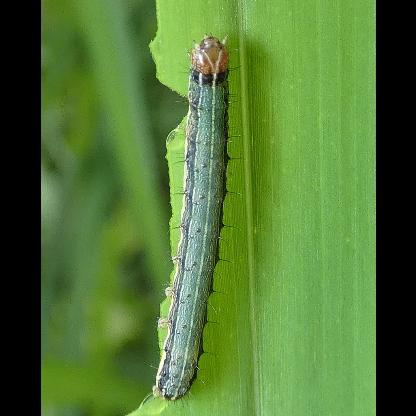Fall Armyworm Larvae: (145, 30, 251, 410)
